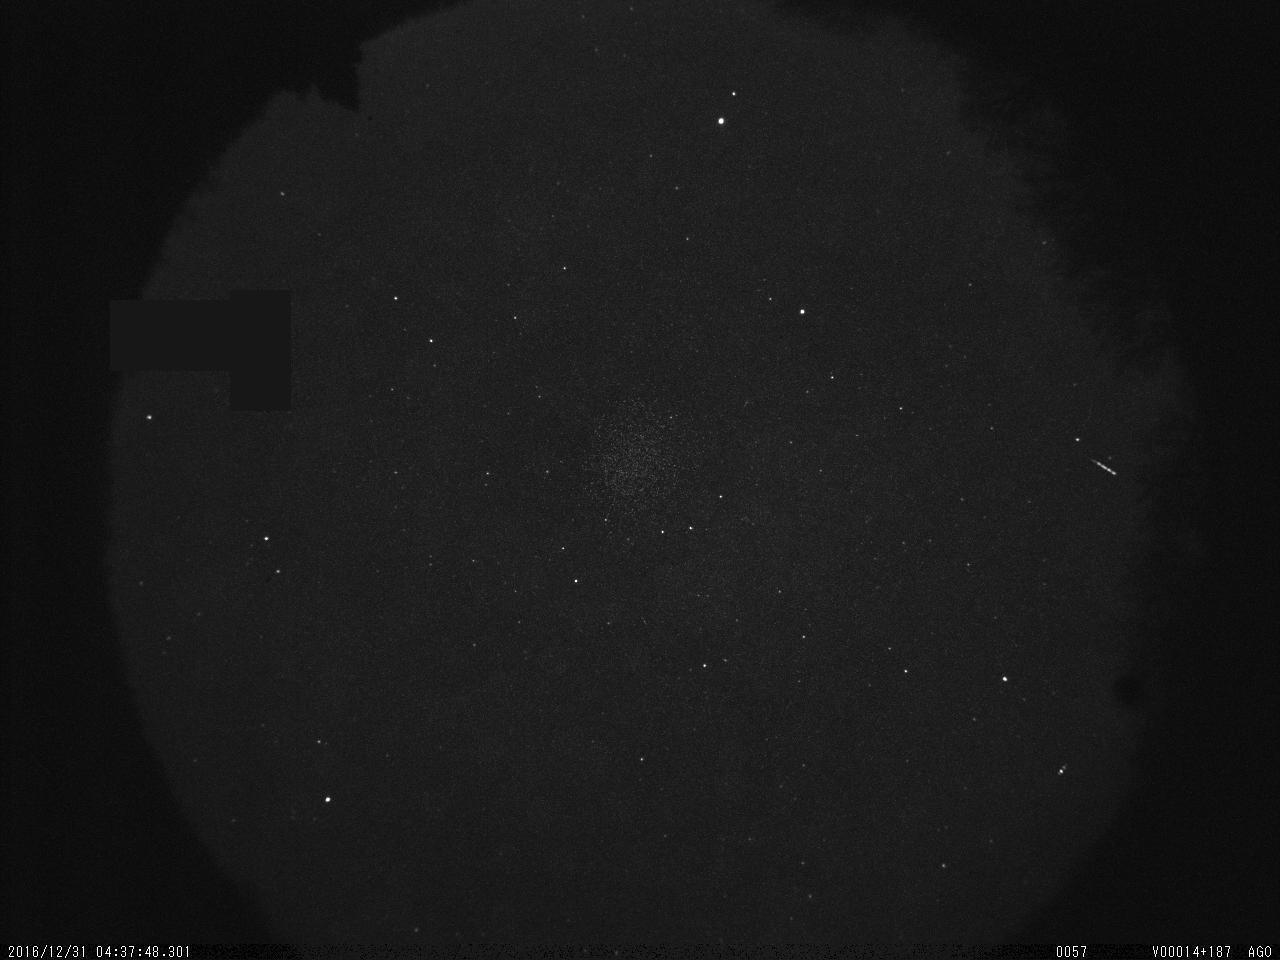Meteor: (1089, 453, 1117, 477)
